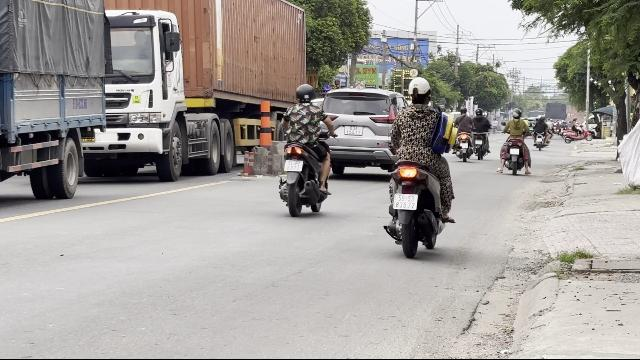helmet: (407, 76, 431, 104), (294, 83, 314, 103)
licenseplate: (394, 194, 418, 210), (284, 160, 304, 172)
motorcyclist: (382, 74, 458, 256), (276, 81, 334, 215)
